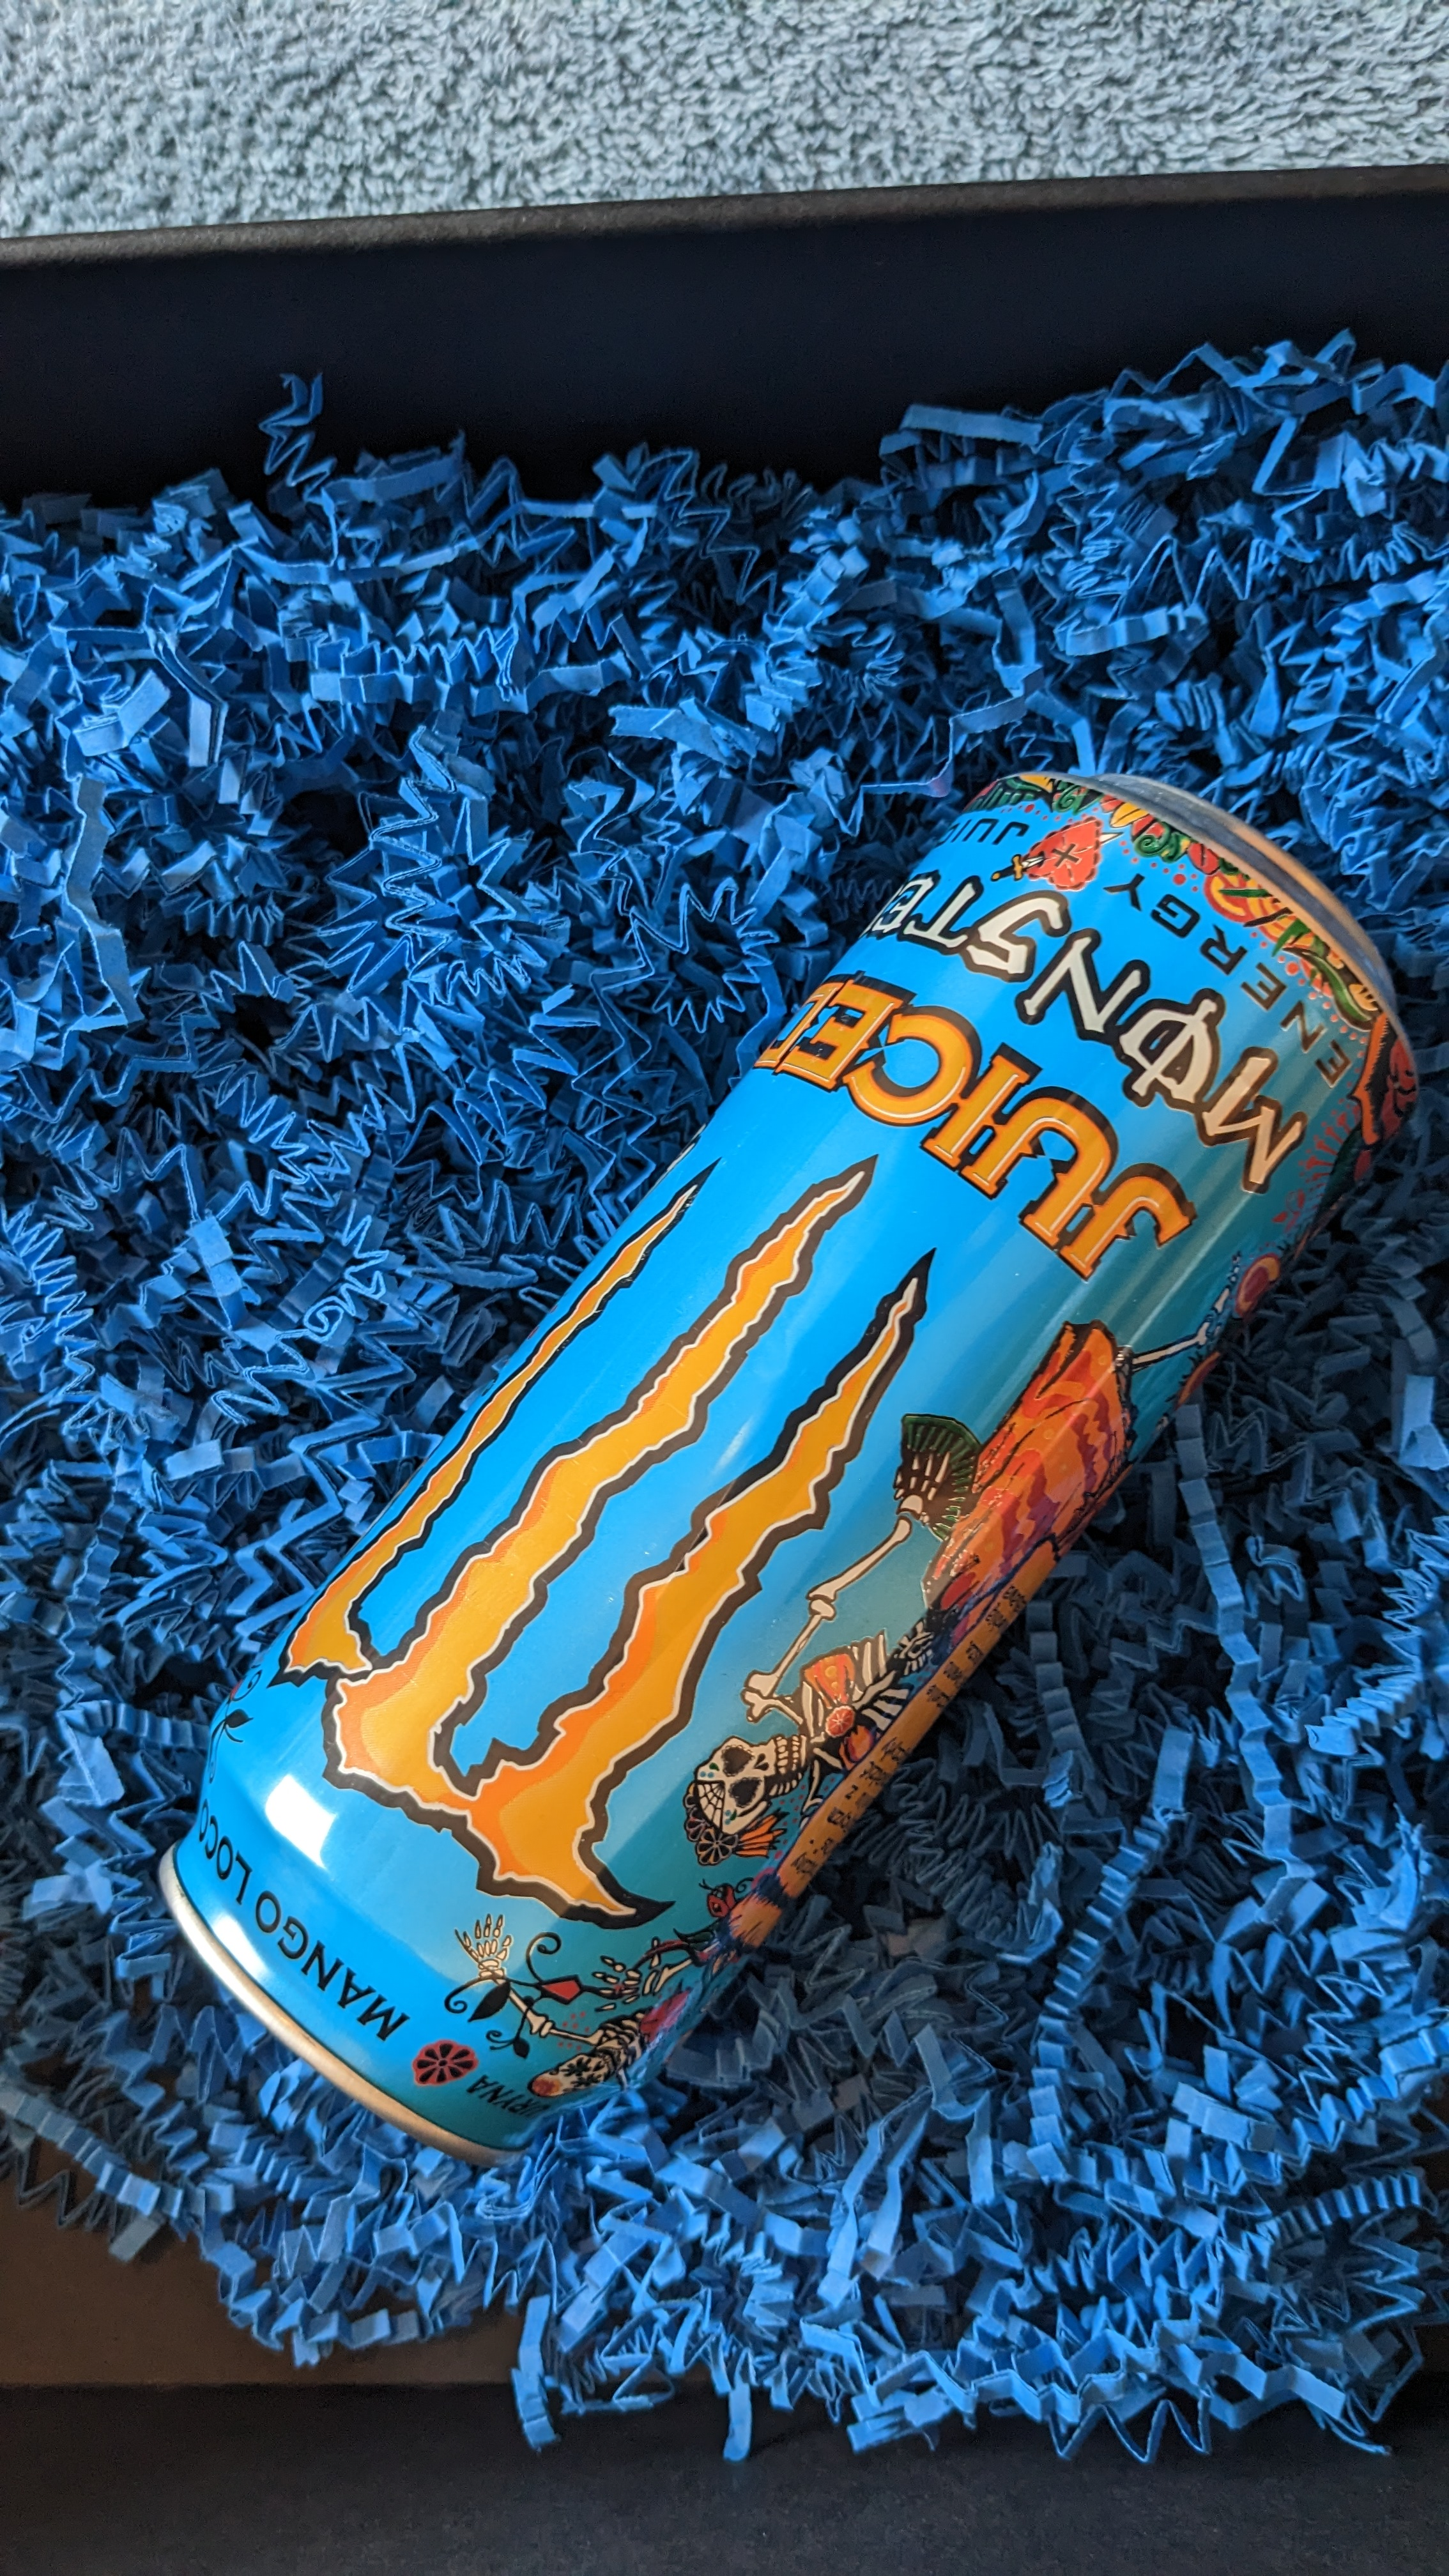monster: (90, 757, 1421, 2173)
